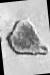D19: (1, 0, 50, 74)
